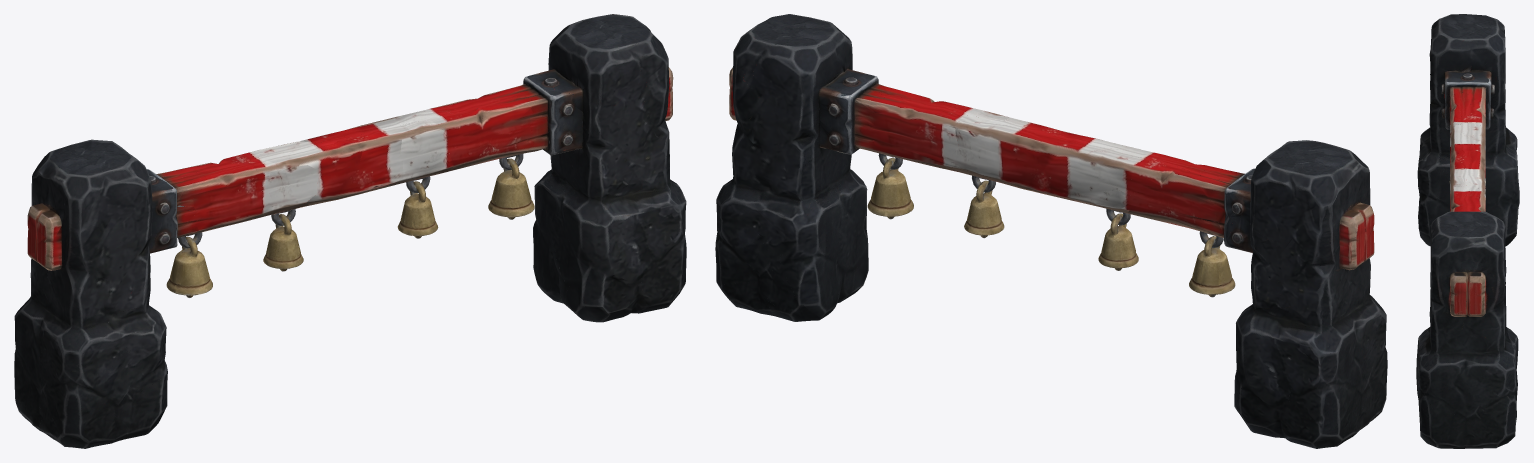
Rendered from SlideBar.fbx.
3 views of the same model, side by side, from view 1: azimuth 30°, elevation 25°; view 2: azimuth 150°, elevation 25°; view 3: azimuth 270°, elevation 25° (orthographic). The views are drawn at different scales.
Parts seen in each view (by area): view 1: SlideBar.034; view 2: SlideBar.034; view 3: SlideBar.034.
Boxes of the visible parts, bbox=[...] form: SlideBar.034: bbox=[14, 14, 686, 448]; SlideBar.034: bbox=[715, 14, 1387, 448]; SlideBar.034: bbox=[1416, 14, 1519, 448].
Bounding box in the file's own units: 4.25 × 1.72 × 0.7749.
Materials: 1 (1 with a texture image).
